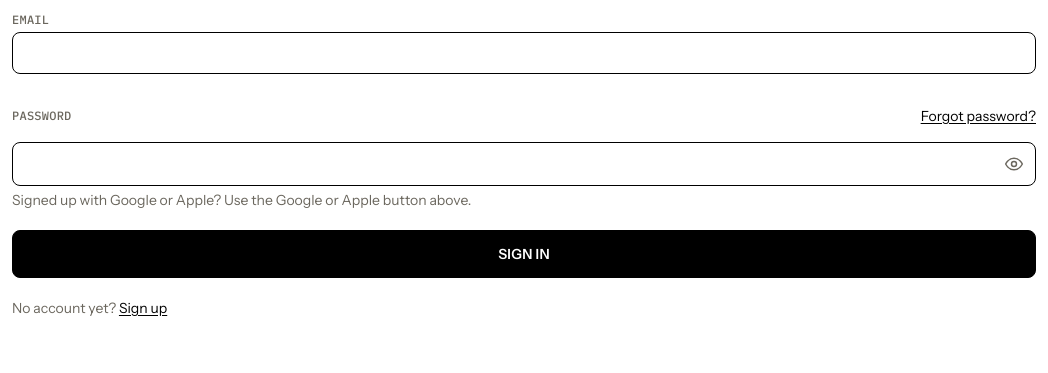
Scenario: LoginForm: a wrong email or password, with Apple / Google offered › says to use the button for an account made with one (it has no password), marking both fields as before
Type "mia@example.com" into the field labelled "Email".
click(524, 53); type("mia@example.com")  # box [12,32,1036,74]
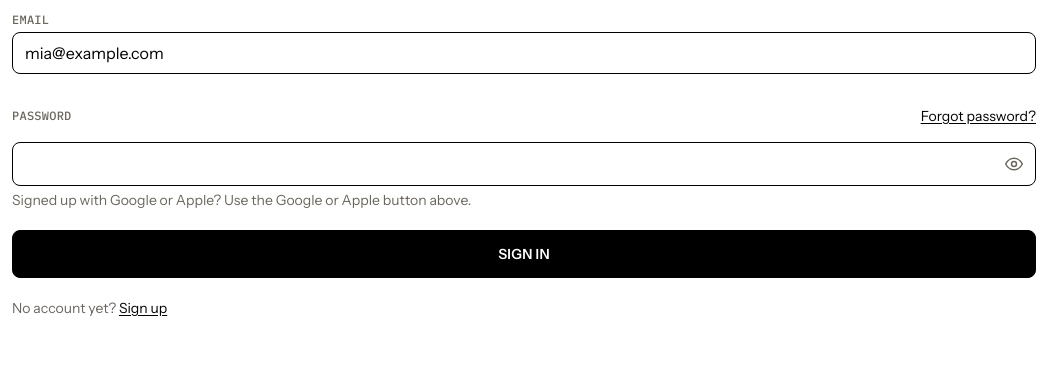
Type "wrong" into the password field labelled "Password".
click(524, 164); type("wrong")  # box [12,142,1036,186]
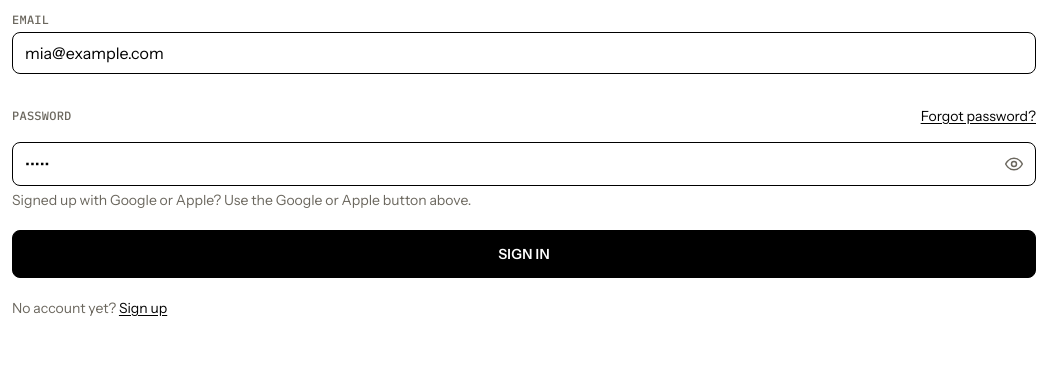
Click the button "Sign in".
click(524, 254)  # box [12,230,1036,278]
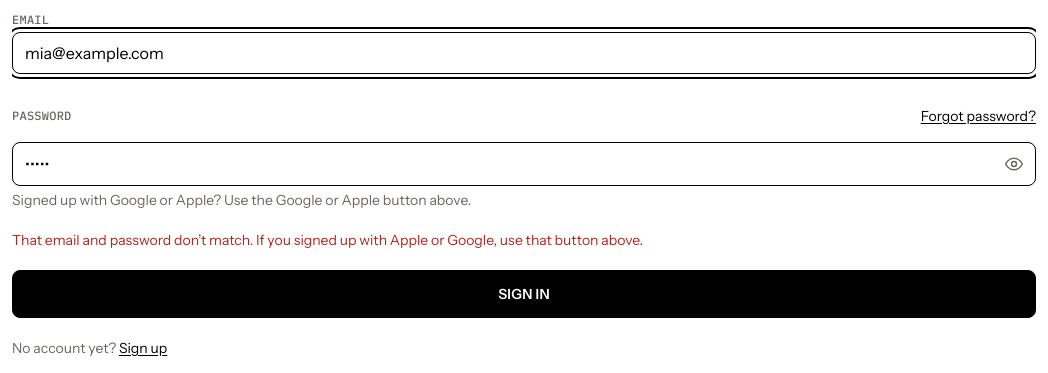
Result: the message shows "That email and password don’t match. If you signed up with Apple or Google, use that button above." at [12,231,643,249]
